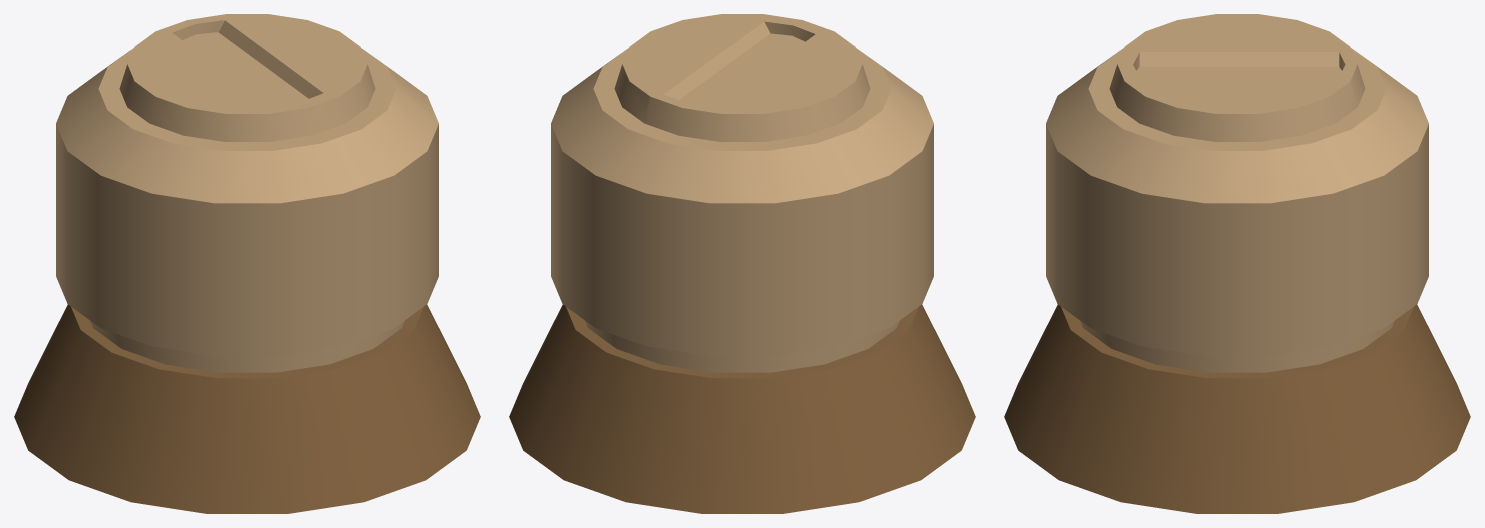
Rendered from low-vent.glb.
The picture shows the model from 3 angles, left to right: view 1: azimuth 30°, elevation 25°; view 2: azimuth 150°, elevation 25°; view 3: azimuth 270°, elevation 25°; orthographic projection.
Visible parts, largest first — view 1: Roof_Opening; view 2: Roof_Opening; view 3: Roof_Opening.
Part boxes in pixels (x1,y1,x2,y2): Roof_Opening: [14, 14, 480, 513]; Roof_Opening: [509, 14, 975, 513]; Roof_Opening: [1004, 14, 1470, 513].
Bounding box in the file's own units: 1.18 × 1 × 1.2.
1 material, 1 textured.
